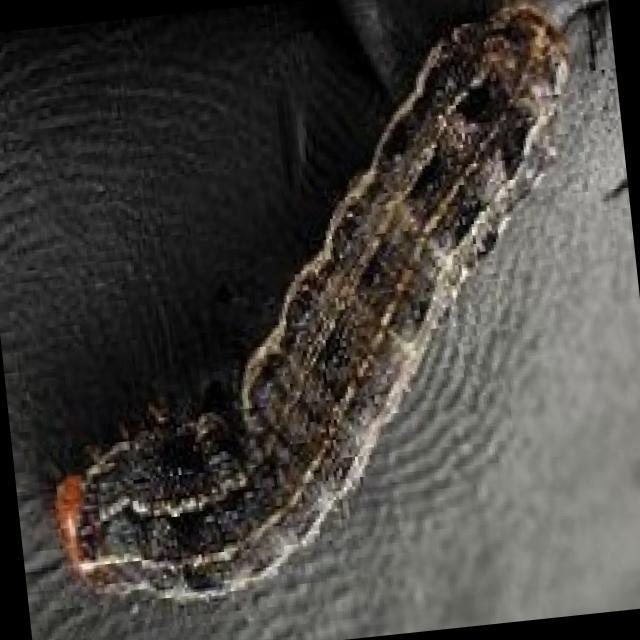Plaga: (1, 1, 640, 640)
